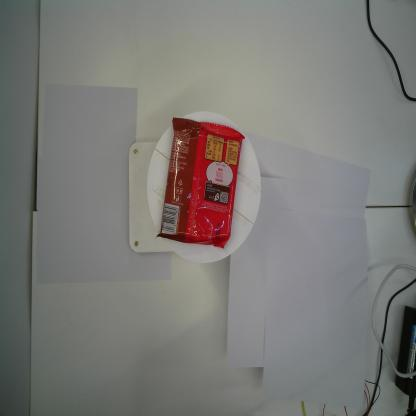Dessert: (155, 117, 245, 249)
